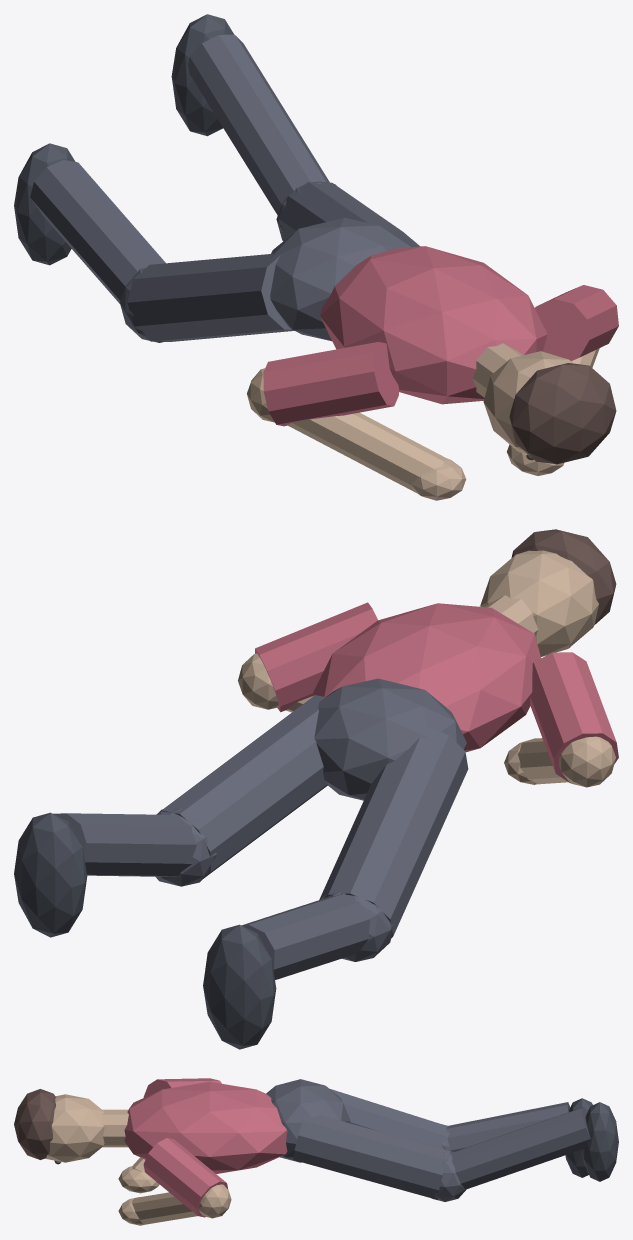
The picture shows the model from 3 angles, top to bottom: view 1: azimuth 30°, elevation 25°; view 2: azimuth 150°, elevation 25°; view 3: azimuth 270°, elevation 25°; orthographic projection. The views are drawn at different scales.
Parts seen in each view (by area): view 1: world; view 2: world; view 3: world.
Boxes of the visible parts, x1,y1,x2,y2 form: world: (14,14,618,500); world: (14,529,618,1049); world: (14,1078,618,1225).
Size of the model in its own units: 0.93 by 0.4905 by 2.06.
